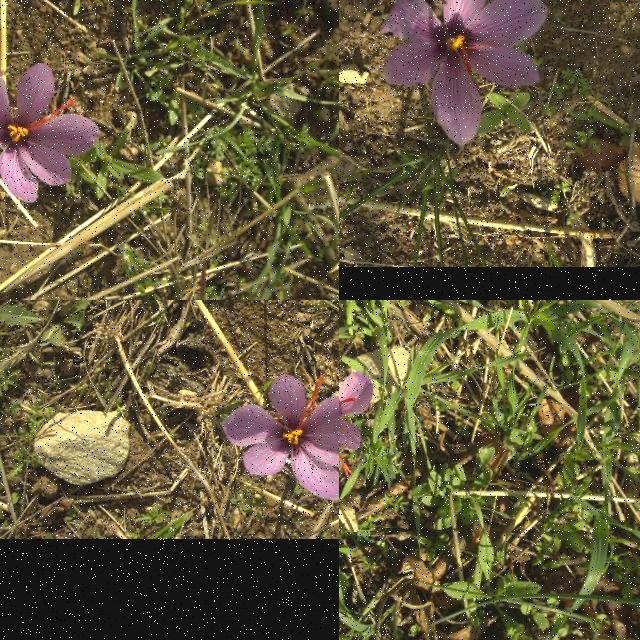flower: (382, 0, 549, 147), (223, 374, 339, 502), (0, 63, 101, 202), (339, 353, 374, 478)
